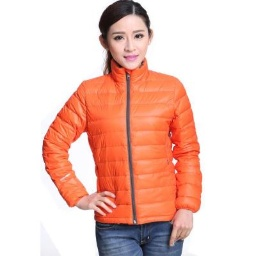face: (96, 1, 155, 72)
